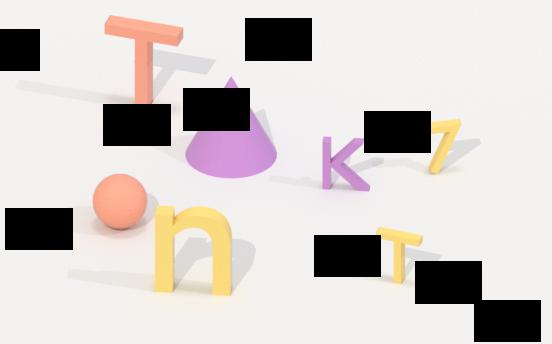7: (424, 122, 467, 182)
cau: (92, 168, 151, 228)
k: (321, 132, 375, 201)
n: (153, 200, 245, 304)
non: (184, 71, 281, 181)
t-hoa: (100, 12, 187, 115), (375, 224, 422, 292)
